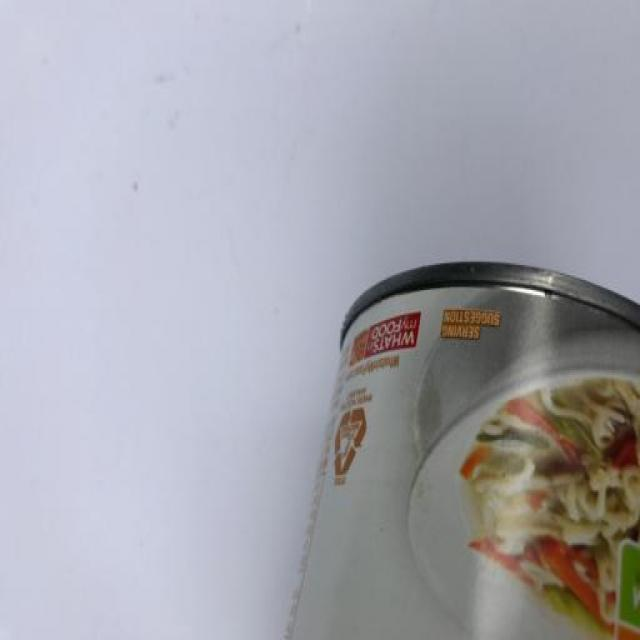metel: (287, 247, 640, 640)
